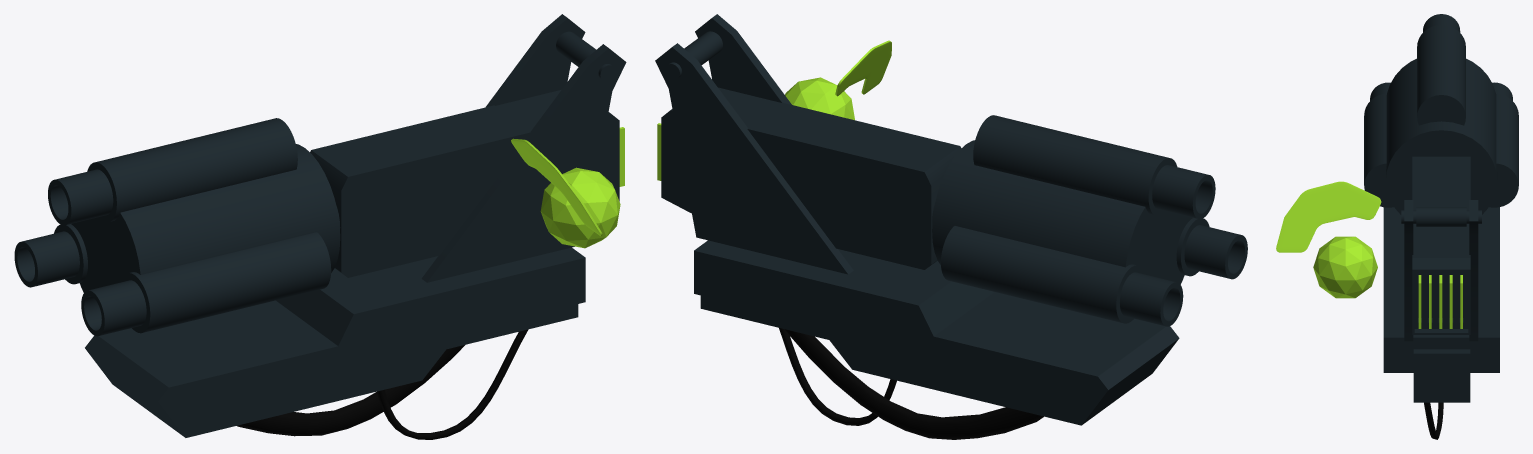
File: ML_blockout_test.fbx
3 renders of one model, left to right at view 1: azimuth 30°, elevation 25°; view 2: azimuth 150°, elevation 25°; view 3: azimuth 270°, elevation 25°, orthographic. The views are drawn at different scales.
Parts seen in each view (by area): view 1: Drum, Bottom_Casing, Main_Body, Top_Handle.001, Handle_control, Catenary, Catenary.001, Battery, HUD.001; view 2: Drum, Bottom_Casing, Main_Body, Top_Handle.001, Catenary, Handle_control, Battery, HUD.001, Catenary.001; view 3: Drum, Main_Body, Bottom_Casing, HUD.001, Top_Handle.001, Handle_control, Battery, Energy_Cart, Catenary.001.
Boxes of the visible parts, x1,y1,x2,y2 form: Drum: (14, 118, 340, 336); Bottom_Casing: (85, 247, 585, 437); Main_Body: (310, 90, 619, 277); Top_Handle.001: (421, 14, 626, 282); Handle_control: (540, 167, 620, 248); Catenary: (237, 345, 464, 436); Catenary.001: (377, 329, 528, 439); Battery: (447, 304, 578, 348); HUD.001: (511, 138, 602, 235); Drum: (932, 115, 1247, 326); Bottom_Casing: (694, 240, 1179, 425); Main_Body: (661, 87, 961, 269); Top_Handle.001: (655, 14, 853, 274); Catenary: (784, 329, 1043, 439); Handle_control: (785, 77, 854, 120); Battery: (700, 295, 828, 339); HUD.001: (835, 40, 891, 96); Catenary.001: (779, 328, 896, 425); Drum: (1364, 14, 1518, 214); Main_Body: (1412, 156, 1470, 334); Bottom_Casing: (1383, 207, 1499, 372); HUD.001: (1276, 181, 1381, 252); Top_Handle.001: (1401, 200, 1481, 341); Handle_control: (1313, 236, 1377, 298); Battery: (1413, 349, 1470, 402); Energy_Cart: (1418, 275, 1462, 328); Catenary.001: (1424, 402, 1443, 439).
Bounding box in the file's own units: 213 × 136 × 102.
